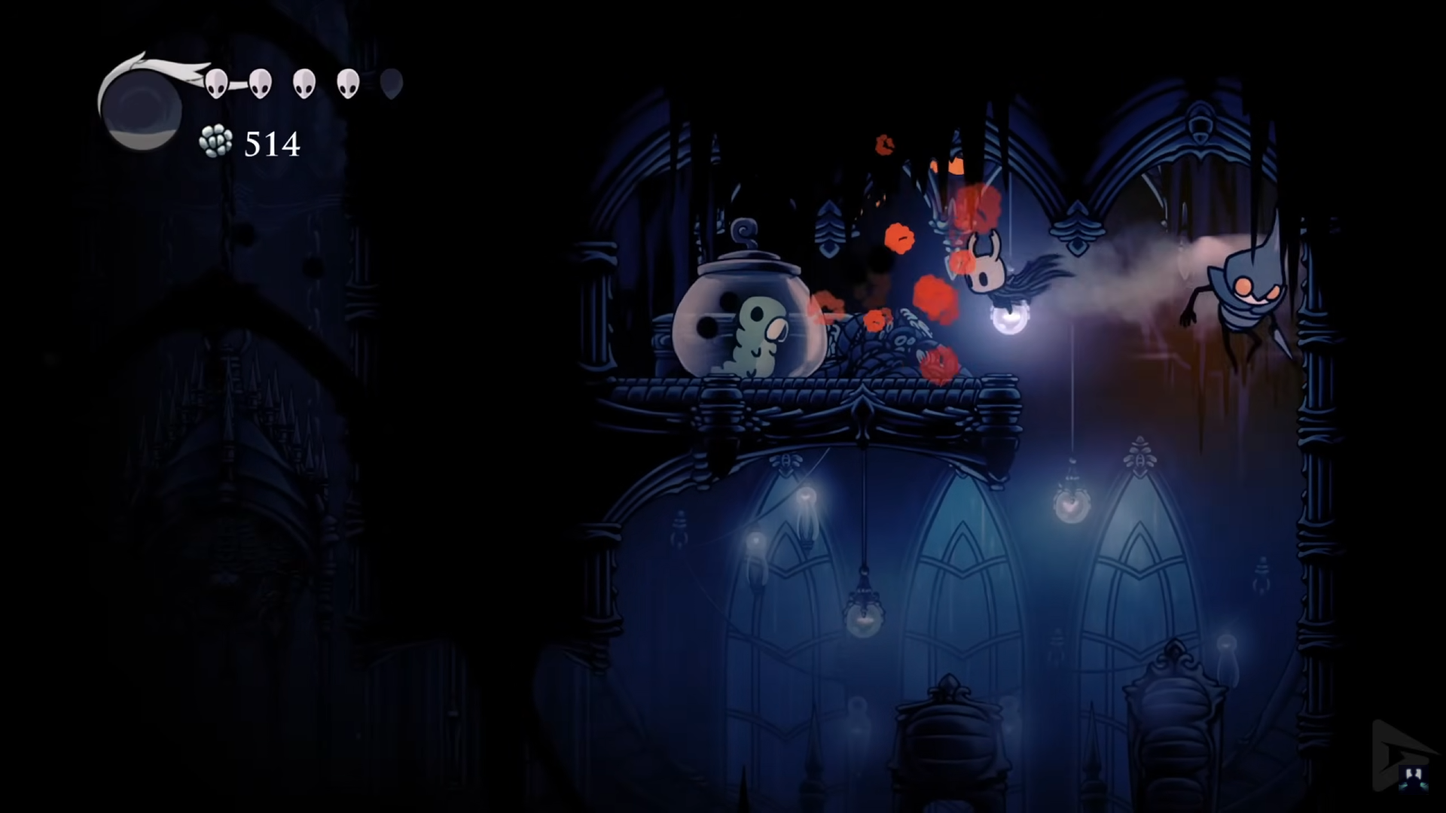HK: (950, 227, 1015, 305)
